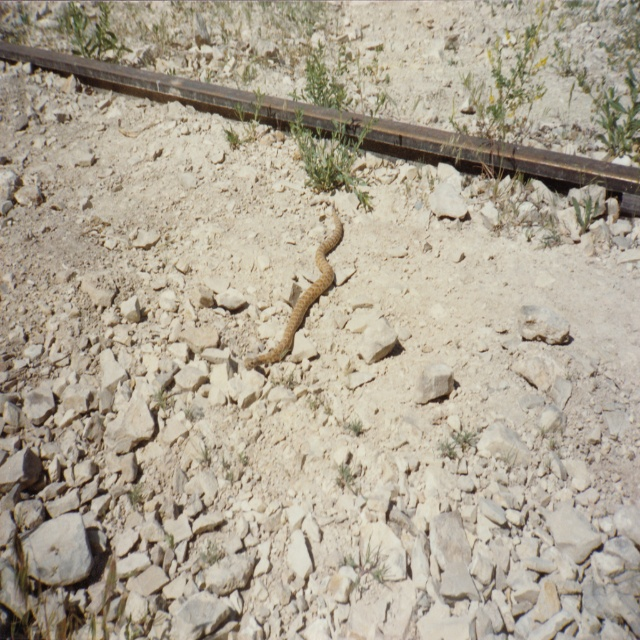Snake: (243, 200, 342, 371)
